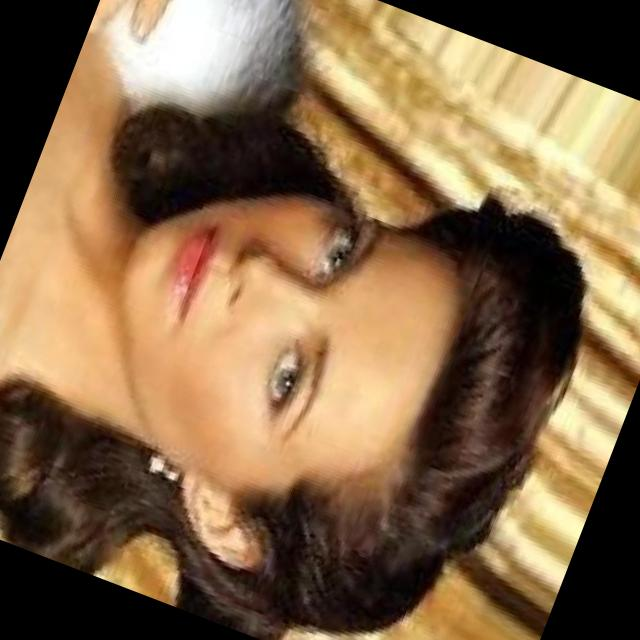bareface: (22, 84, 567, 640)
